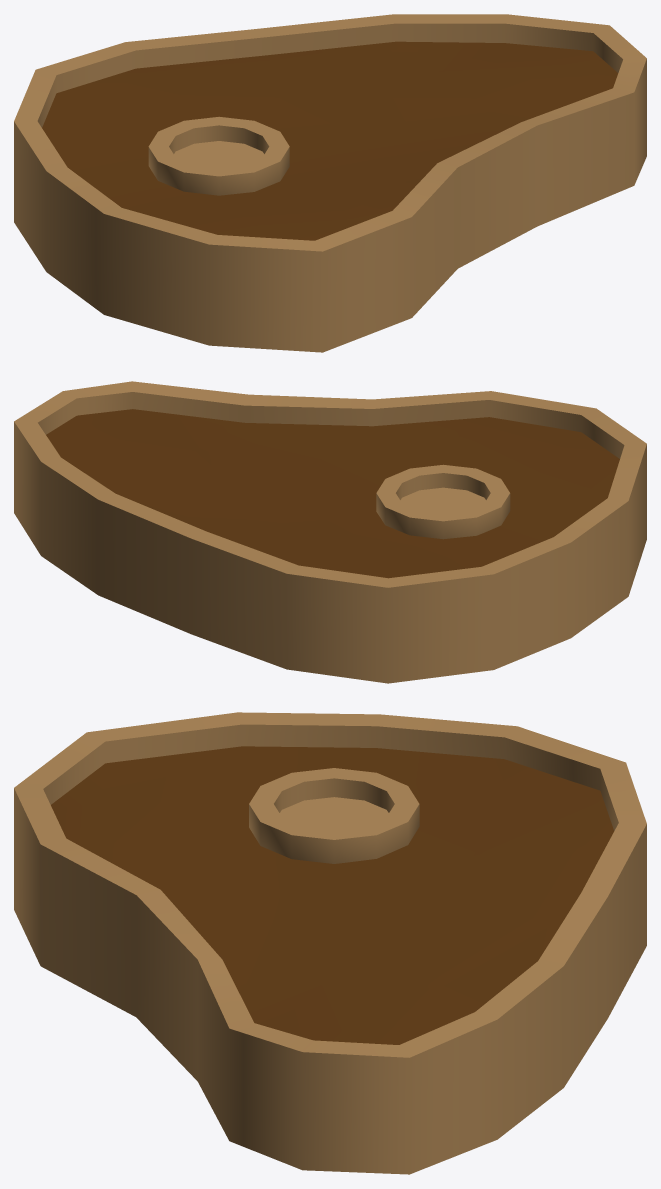
Rendered from rl_steak_2.fbx.
The picture shows the model from 3 angles, top to bottom: view 1: azimuth 30°, elevation 25°; view 2: azimuth 150°, elevation 25°; view 3: azimuth 270°, elevation 25°; orthographic projection. The views are drawn at different scales.
Visible parts, largest first — view 1: rim, steak, bone; view 2: rim, steak, bone; view 3: rim, steak, bone.
Boxes of the visible parts, left/top/right/bottom form: rim: left=14, top=14, right=646, bottom=352; steak: left=42, top=41, right=618, bottom=240; bone: left=148, top=116, right=289, bottom=195; rim: left=14, top=381, right=646, bottom=683; steak: left=46, top=409, right=619, bottom=578; bone: left=376, top=464, right=510, bottom=539; rim: left=14, top=712, right=646, bottom=1174; steak: left=51, top=746, right=614, bottom=1044; bone: left=249, top=768, right=419, bottom=863.
Size of the model in its own units: 175 by 31.47 by 138.
